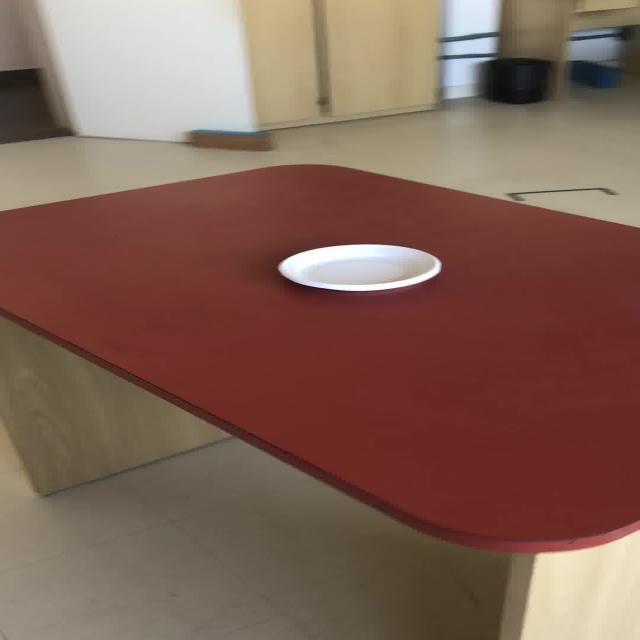plate: (276, 242, 441, 292)
